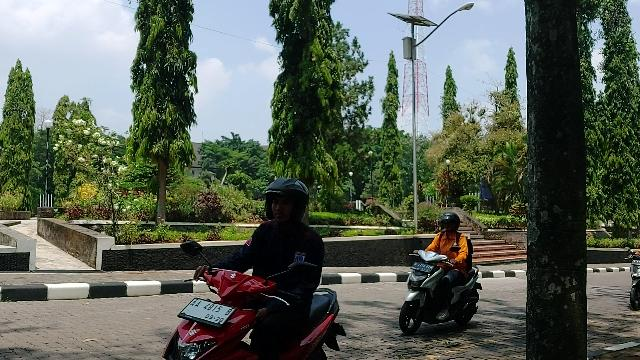helm: (264, 177, 313, 227), (439, 213, 462, 235)
motor: (161, 239, 350, 360), (400, 237, 485, 338)
